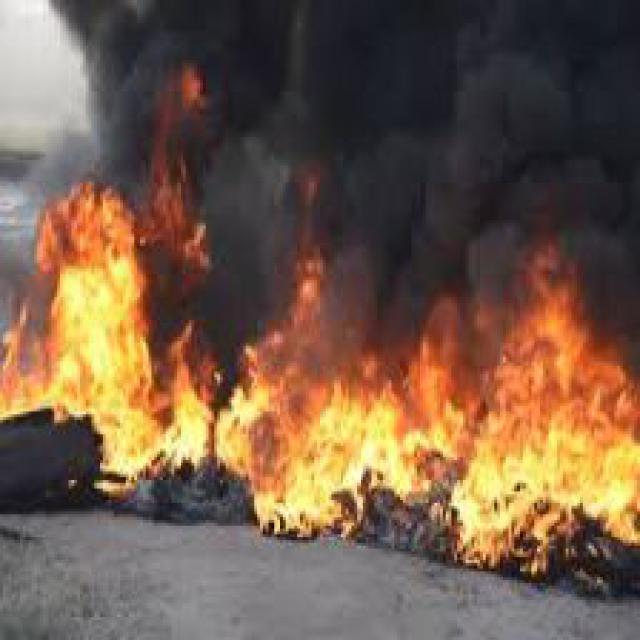fire: (12, 174, 637, 577)
